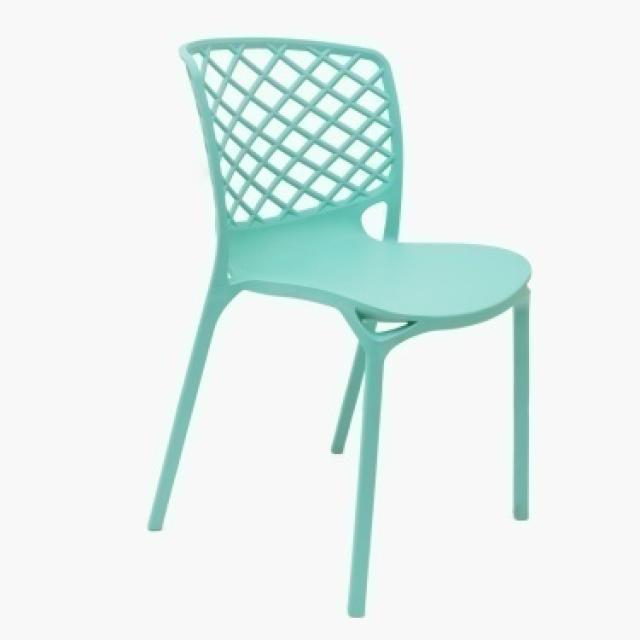chair: (148, 34, 552, 620)
